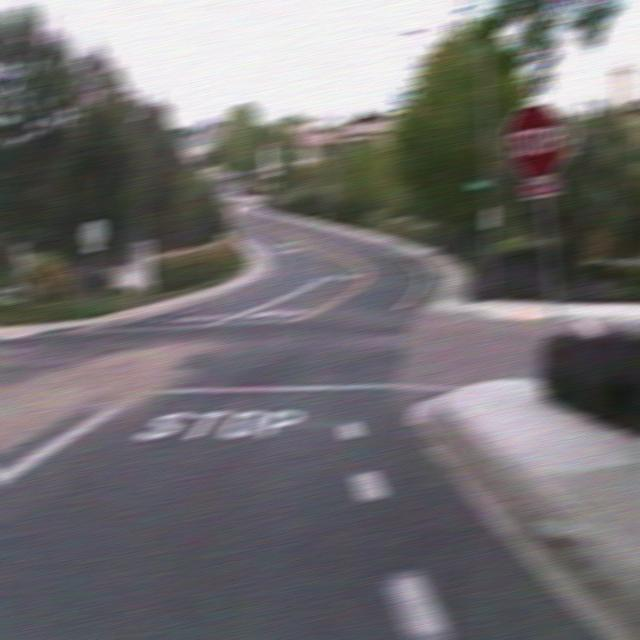stop: (504, 102, 568, 179)
